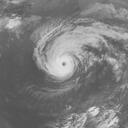cyclone: (32, 18, 115, 83)
